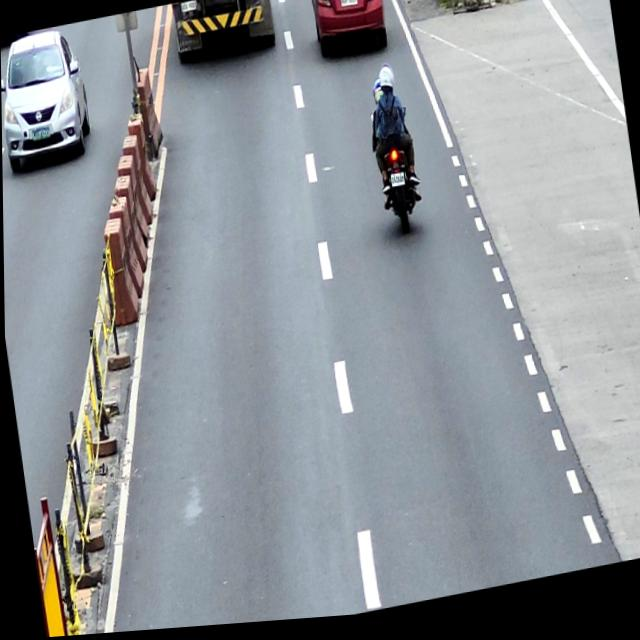Car: (0, 26, 95, 174), (304, 0, 392, 69)
License-Plate: (31, 126, 51, 141), (340, 0, 358, 13), (389, 178, 404, 193), (181, 3, 198, 14)
Motorcycle: (368, 109, 422, 244)
Truck: (169, 0, 277, 69)
